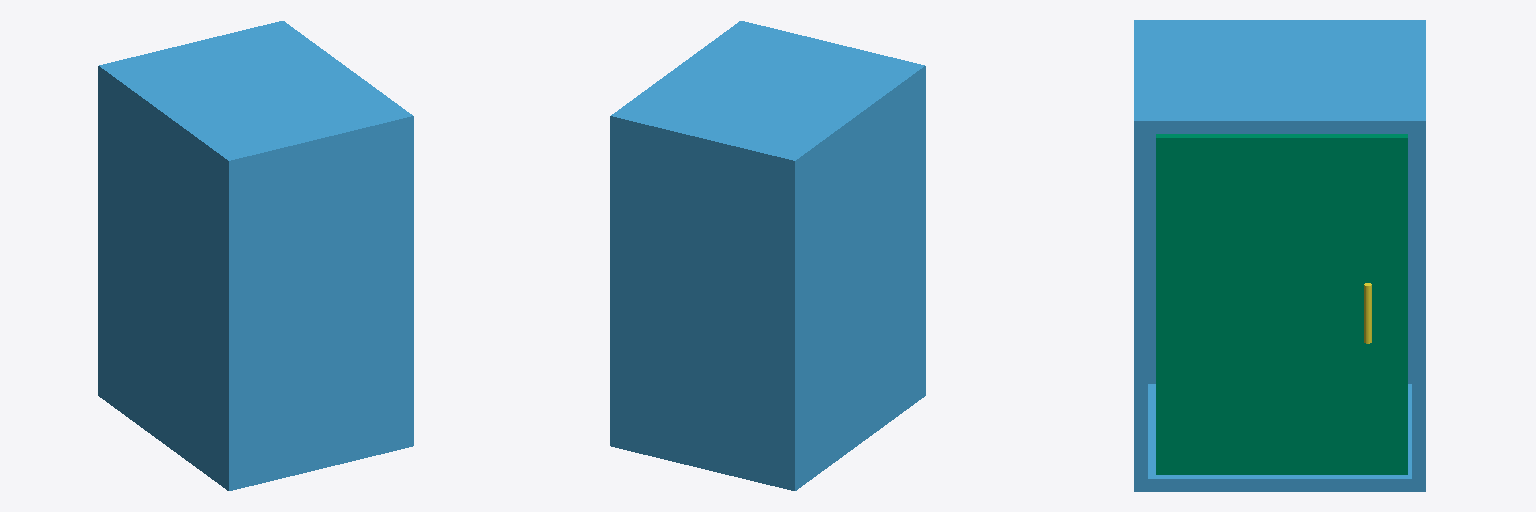
The robot description file, URDF, robot "my_cabinet":
<?xml version="1.0" ?>
<robot name="my_cabinet">
	<link name="world"/>
	<joint name="virtual_joint" type="fixed">
		<parent link="world"/>
		<child link="base_cabinet_link"/>
		<origin xyz="0.0 0.0 0.0" rpy="0.0 0.0 0.0"/>
	</joint>
	<link name="base_cabinet_link">
		<visual>
			<origin xyz="0.0 -0.0025 -0.2474205945864417" rpy="0.0 0.0 0.0"/>
			<geometry>
				<box size="0.3 0.3669297424263991 0.018"/>
			</geometry>
		</visual>
		<collision name="base_cabinet_link_collision_0">
			<origin xyz="0.0 -0.0025 -0.2474205945864417" rpy="0.0 0.0 0.0"/>
			<geometry>
				<box size="0.3 0.3669297424263991 0.018"/>
			</geometry>
		</collision>
		<visual>
			<origin xyz="0.0 0.17196487121319956 0.0" rpy="0.0 0.0 0.0"/>
			<geometry>
				<box size="0.3 0.018 0.5128411891728833"/>
			</geometry>
		</visual>
		<collision name="base_cabinet_link_collision_1">
			<origin xyz="0.0 0.17196487121319956 0.0" rpy="0.0 0.0 0.0"/>
			<geometry>
				<box size="0.3 0.018 0.5128411891728833"/>
			</geometry>
		</collision>
		<visual>
			<origin xyz="0.0 -0.17696487121319956 0.0" rpy="0.0 0.0 0.0"/>
			<geometry>
				<box size="0.3 0.018 0.5128411891728833"/>
			</geometry>
		</visual>
		<collision name="base_cabinet_link_collision_2">
			<origin xyz="0.0 -0.17696487121319956 0.0" rpy="0.0 0.0 0.0"/>
			<geometry>
				<box size="0.3 0.018 0.5128411891728833"/>
			</geometry>
		</collision>
		<visual>
			<origin xyz="0.0 -0.0025 0.2474205945864417" rpy="0.0 0.0 0.0"/>
			<geometry>
				<box size="0.3 0.3669297424263991 0.018"/>
			</geometry>
		</visual>
		<collision name="base_cabinet_link_collision_3">
			<origin xyz="0.0 -0.0025 0.2474205945864417" rpy="0.0 0.0 0.0"/>
			<geometry>
				<box size="0.3 0.3669297424263991 0.018"/>
			</geometry>
		</collision>
		<visual>
			<origin xyz="-0.141 -0.0025 0.0" rpy="0.0 0.0 0.0"/>
			<geometry>
				<box size="0.018 0.3669297424263991 0.5128411891728833"/>
			</geometry>
		</visual>
		<collision name="base_cabinet_link_collision_4">
			<origin xyz="-0.141 -0.0025 0.0" rpy="0.0 0.0 0.0"/>
			<geometry>
				<box size="0.018 0.3669297424263991 0.5128411891728833"/>
			</geometry>
		</collision>
		<inertial>
			<mass value="0.200000"/>
			<inertia ixx="0.006627" ixy="0.0" ixz="0.0" iyy="0.005883" iyz="0.0" izz="0.003744"/>
		</inertial>
	</link>
	<link name="door_link">
		<visual>
			<origin xyz="0.0 -0.15796487121319955 0.0"/>
			<geometry>
				<box size="0.018 0.3159297424263991 0.46684118917288336"/>
			</geometry>
		</visual>
		<collision name="door_link_collision">
			<origin xyz="0.0 -0.15796487121319955 0.0"/>
			<geometry>
				<box size="0.018 0.3159297424263991 0.46684118917288336"/>
			</geometry>
		</collision>
		<inertial>
			<mass value="0.200000"/>
			<inertia ixx="0.005296" ixy="0.0" ixz="0.0" iyy="0.003638" iyz="0.0" izz="0.001669"/>
		</inertial>
	</link>
	<joint name="door_joint" type="revolute">
		<origin xyz="0.141 -0.15796487121319955 0.0" rpy="0.000000 -0.000000 3.141593"/>
		<axis xyz="0 0 1"/>
		<parent link="base_cabinet_link"/>
		<child link="door_link"/>
		<limit effort="50" lower="-1.658062789394613" upper="0" velocity="10"/>
		<dynamics friction="3.5" damping="3.5"/>
	</joint>
	<link name="handle_link">
		<visual>
			<origin xyz="0.0 0.0 0.0" rpy="0.0 0.0 0.0"/>
			<geometry>
				<cylinder length="0.08" radius="0.005"/>
			</geometry>
		</visual>
		<collision name="handle_link_collision_0">
			<origin xyz="0.0 0.0 0.0" rpy="0.0 0.0 0.0"/>
			<geometry>
				<cylinder length="0.08" radius="0.005"/>
			</geometry>
		</collision>
		<visual>
			<origin xyz="-0.01 0.0 0.02" rpy="0.0 1.5707963267948966 0.0"/>
			<geometry>
				<cylinder length="0.02" radius="0.003"/>
			</geometry>
		</visual>
		<collision name="handle_link_collision_1">
			<origin xyz="-0.01 0.0 0.02" rpy="0.0 1.5707963267948966 0.0"/>
			<geometry>
				<cylinder length="0.01" radius="0.003"/>
			</geometry>
		</collision>
		<visual>
			<origin xyz="-0.01 0.0 -0.02" rpy="0.0 1.5707963267948966 0.0"/>
			<geometry>
				<cylinder length="0.02" radius="0.003"/>
			</geometry>
		</visual>
		<collision name="handle_link_collision_2">
			<origin xyz="-0.01 0.0 -0.02" rpy="0.0 1.5707963267948966 0.0"/>
			<geometry>
				<cylinder length="0.02" radius="0.003"/>
			</geometry>
		</collision>
		<inertial>
			<mass value="0.050000"/>
			<inertia ixx="0.000027" ixy="0.0" ixz="0.0" iyy="0.000029" iyz="0.0" izz="0.000003"/>
		</inertial>
	</link>
	<joint name="handle_joint" type="fixed">
		<origin xyz="-0.028999999999999998 -0.2659297424263991 0.0" rpy="0.000000 -0.000000 3.141593"/>
		<parent link="door_link"/>
		<child link="handle_link"/>
	</joint>
	<gazebo reference="base_cabinet_link">
		<sensor name="main_sensor" type="contact">
			<selfCollide>true</selfCollide>
			<alwaysOn>true</alwaysOn>
			<updateRate>5.0</updateRate>
			<material>Gazebo/Red</material>
			<contact>
				<collision>base_cabinet_link_collision_0_collision</collision>
				<collision>base_cabinet_link_collision_1_collision</collision>
				<collision>base_cabinet_link_collision_2_collision</collision>
				<collision>base_cabinet_link_collision_3_collision</collision>
				<collision>base_cabinet_link_collision_4_collision</collision>
			</contact>
			<plugin name="gazebo_ros_bumper_controller" filename="libgazebo_ros_bumper.so">
				<bumperTopicName>/contact</bumperTopicName>
				<frameName>world</frameName>
			</plugin>
		</sensor>
	</gazebo>
	<gazebo reference="door_link">
		<sensor name="main_sensor" type="contact">
			<selfCollide>true</selfCollide>
			<alwaysOn>true</alwaysOn>
			<updateRate>5.0</updateRate>
			<material>Gazebo/Red</material>
			<contact>
				<collision>door_link_collision_collision</collision>
			</contact>
			<plugin name="gazebo_ros_bumper_controller" filename="libgazebo_ros_bumper.so">
				<bumperTopicName>/contact_door</bumperTopicName>
				<frameName>contact_door</frameName>
			</plugin>
		</sensor>
	</gazebo>
	<gazebo reference="door_link">
		<mu>3.0</mu>
		<mu2>3.0</mu2>
		<kp>10000000</kp>
		<kd>100</kd>
	</gazebo>
</robot>

--- Render facts (derived) ---
Views: 3 orthographic renders of the robot side by side, from view 1: azimuth 30°, elevation 25°; view 2: azimuth 150°, elevation 25°; view 3: azimuth 270°, elevation 25°.
Model my_cabinet with 4 links and 3 joints (1 revolute, 2 fixed), rooted at world, posed every joint at zero.
Links seen in each view (by area): view 1: base_cabinet_link; view 2: base_cabinet_link; view 3: door_link, base_cabinet_link.
Link boxes in pixels (left/top/right/bottom): base_cabinet_link: left=98, top=21, right=413, bottom=490; base_cabinet_link: left=610, top=21, right=925, bottom=490; door_link: left=1156, top=134, right=1407, bottom=474; base_cabinet_link: left=1134, top=20, right=1425, bottom=491.
Bounding box of the posed robot: 0.325 × 0.3669 × 0.5128 m (x, y, z).
Geometry: primitives only (box / cylinder / sphere), no mesh files.
